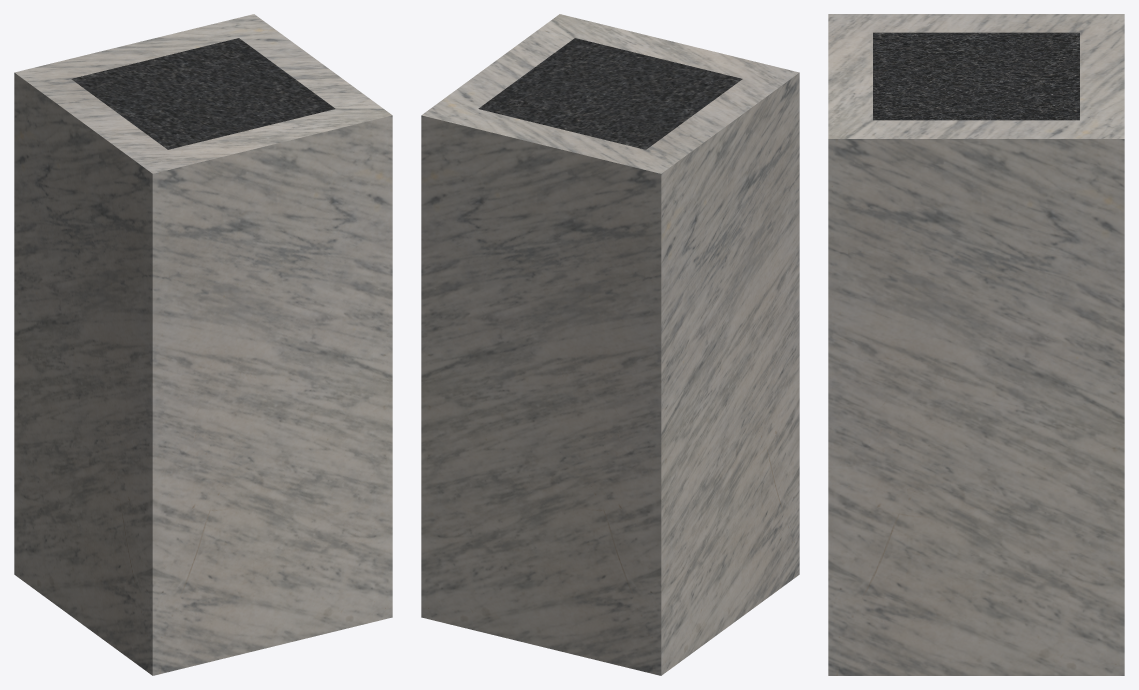
Rendered from Stand.fbx.
The picture shows the model from 3 angles, left to right: view 1: azimuth 30°, elevation 25°; view 2: azimuth 150°, elevation 25°; view 3: azimuth 270°, elevation 25°; orthographic projection. The views are drawn at different scales.
Parts seen in each view (by area): view 1: Cube; view 2: Cube; view 3: Cube.
Boxes of the visible parts, x1,y1,x2,y2 form: Cube: (14, 14, 392, 675); Cube: (421, 14, 799, 675); Cube: (828, 14, 1124, 675).
Bounding box in the file's own units: 0.6 × 1.2 × 0.6.
Materials: 2 (2 with a texture image).
